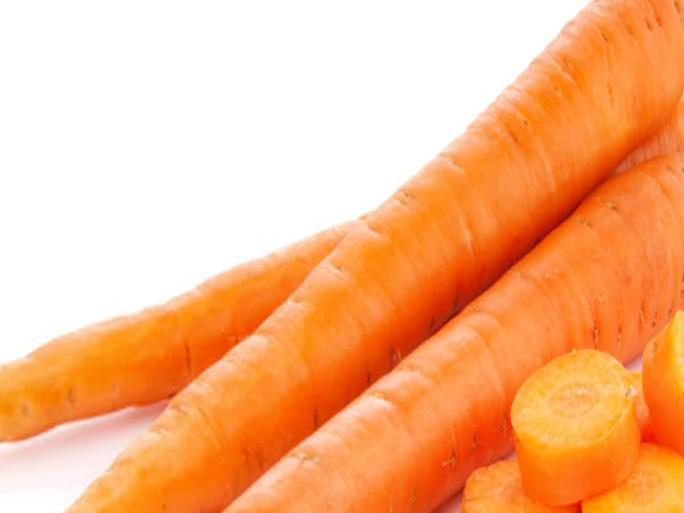carrot: (5, 43, 684, 513)
